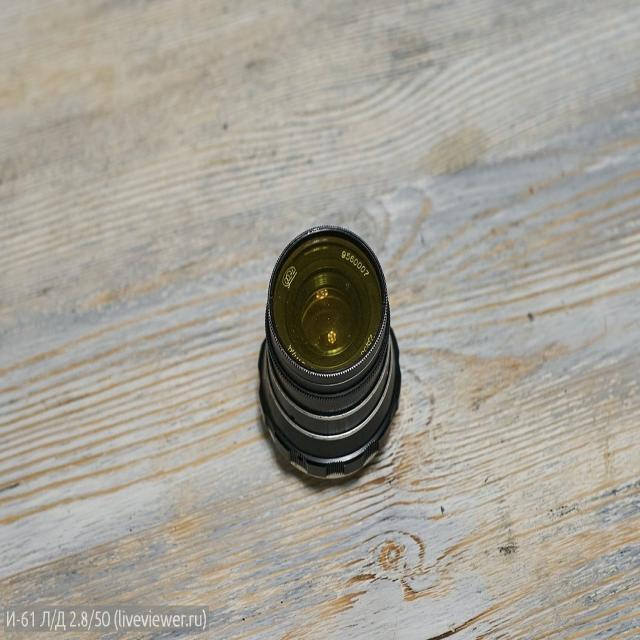hidden camera: (269, 224, 393, 393)
